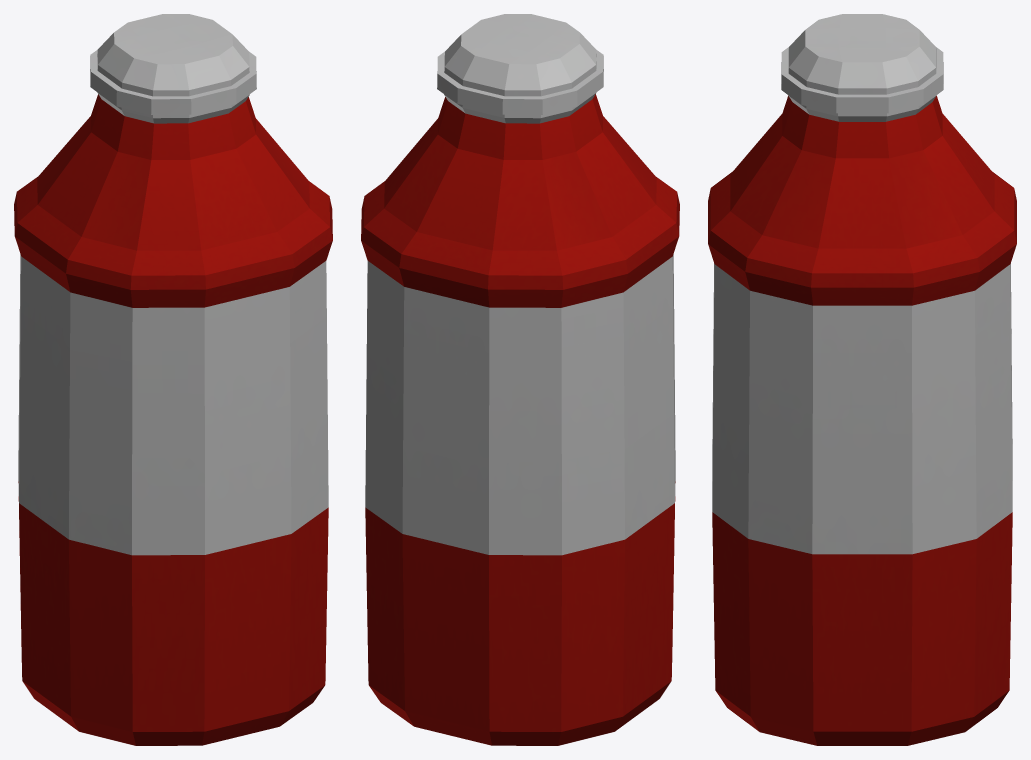
File: small_bottle_tall_1.glb
The picture shows the model from 3 angles, left to right: view 1: azimuth 30°, elevation 25°; view 2: azimuth 150°, elevation 25°; view 3: azimuth 270°, elevation 25°; orthographic projection.
Visible parts, largest first — view 1: small_bottle_tall_1; view 2: small_bottle_tall_1; view 3: small_bottle_tall_1.
Boxes of the visible parts, box(x1,y1,x2,y2) form: small_bottle_tall_1: box(14, 14, 332, 745); small_bottle_tall_1: box(361, 14, 679, 745); small_bottle_tall_1: box(708, 14, 1016, 745).
Size of the model in its own units: 0.0767 by 0.1784 by 0.0767.
1 material, 1 textured.
